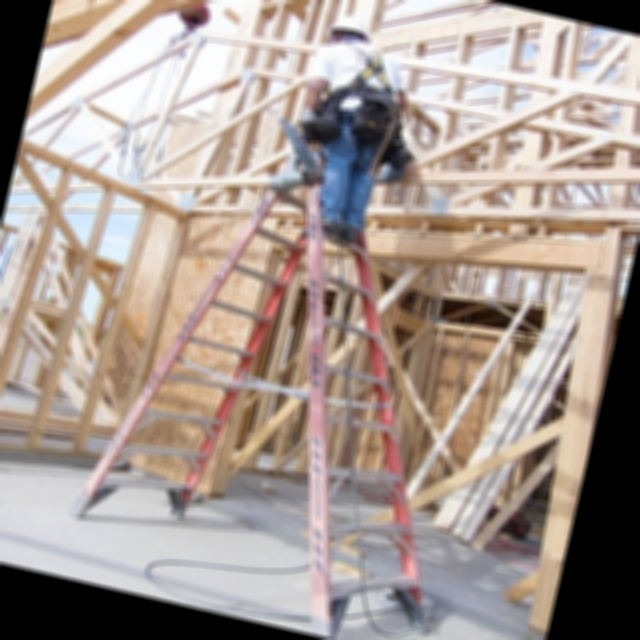Con_Casco: (327, 5, 375, 49)
